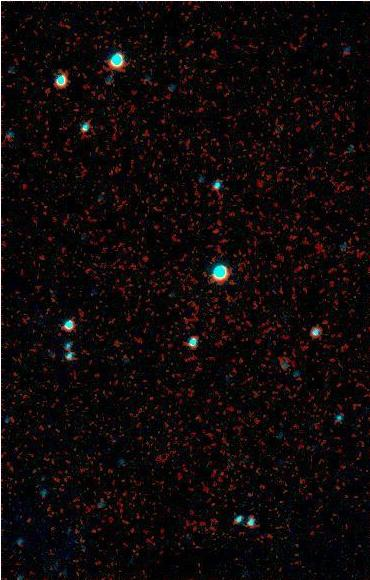star: (67, 96, 97, 126)
